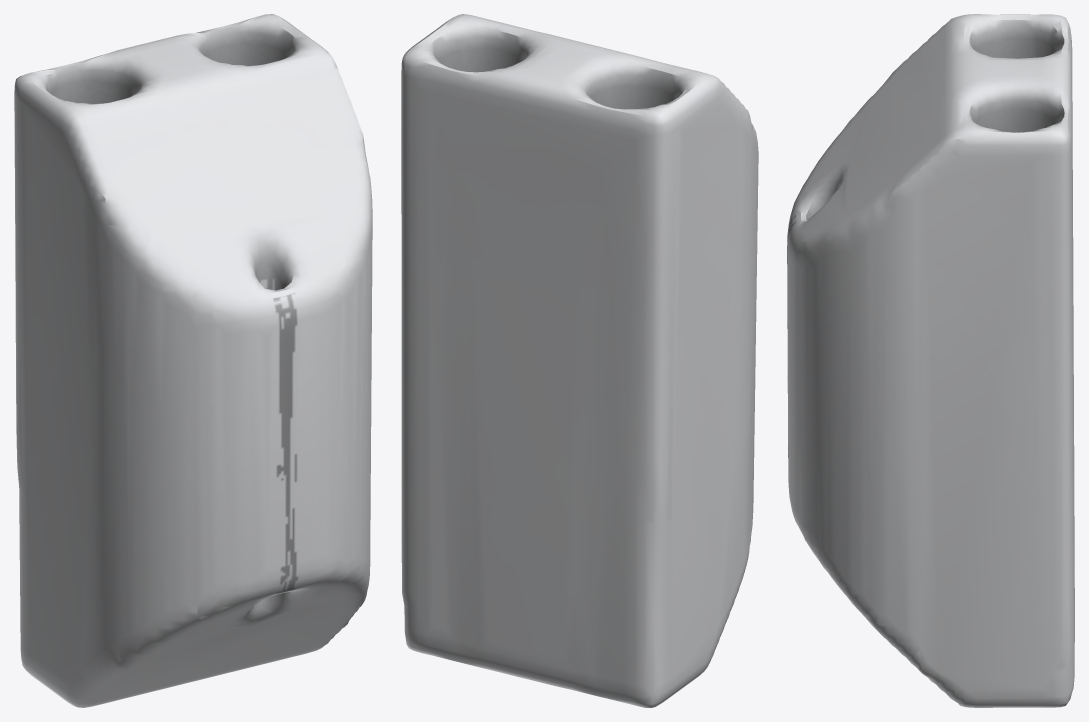
Rendered from right_finger1_lower.glb.
3 views of the same model, side by side, from view 1: azimuth 30°, elevation 25°; view 2: azimuth 150°, elevation 25°; view 3: azimuth 270°, elevation 25° (orthographic). The views are drawn at different scales.
Parts seen in each view (by area): view 1: right_finger1_lower; view 2: right_finger1_lower; view 3: right_finger1_lower.
Boxes of the visible parts, x1,y1,x2,y2 form: right_finger1_lower: (14, 14, 372, 707); right_finger1_lower: (401, 14, 758, 707); right_finger1_lower: (787, 14, 1074, 707).
Size of the model in its own units: 0.0108 by 0.0232 by 0.0104.
1 material, 1 textured.
